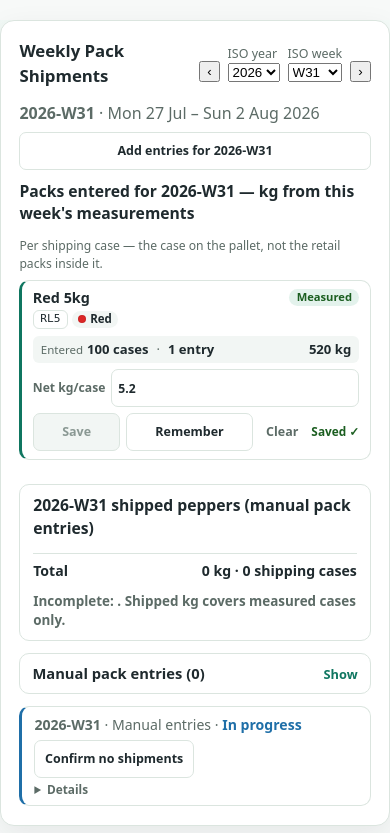
pack measurement save states › an edit shows “Unsaved changes”; Save is enabled only while the change is valid; typing the saved value back is “Saved ✓” again
Expected: the heading "Red 5kg" is shown, [33,288,90,307]
Replace the text in the number field named "Average net pepper kg per shipping case for Red 5kg" with "5.4": (235, 388) [111,369,359,407]
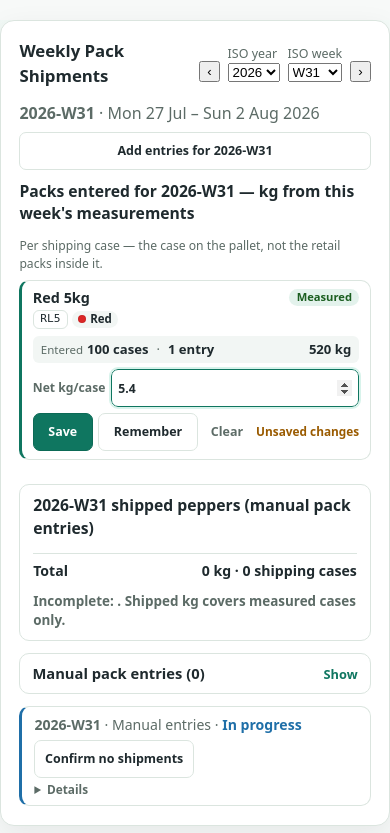
Expected: the message reads "Unsaved changes", [256,423,359,439]
Expected: the button "Save" is enabled, [33,413,93,451]
Replace the text in the number field named "Average net pepper kg per shipping case for Red 5kg" with "-1": (235, 388) [111,369,359,407]
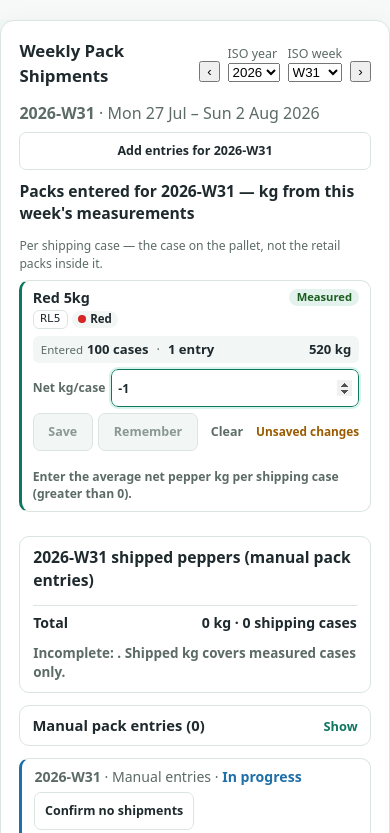
Expected: the message "Unsaved changes" is shown, [256,423,359,440]
Expected: the button "Save" is disabled, [33,413,93,451]
Expected: the message "Enter the average net pepper kg per shipping case (greater than 0)." is shown, [33,468,359,503]
Clear the number field named "Average net pepper kg per shipping case for Red 5kg": (235, 388) [111,369,359,407]
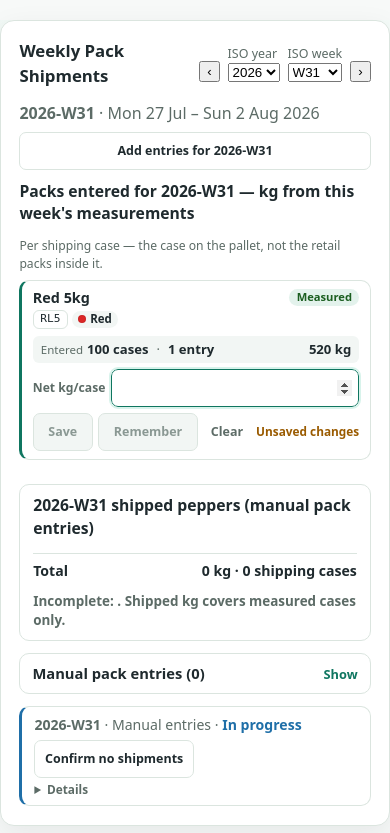
Expected: the button "Save" is disabled, [33,413,93,451]
In the number field named "Average net pepper kg per shipping case for Red 5kg": (235, 388) [111,369,359,407], type "5.20"
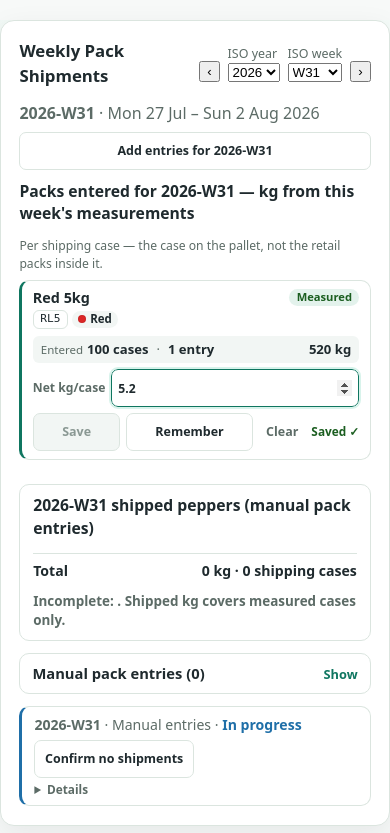
Expected: the button "Save" is disabled, [33,413,120,451]
Expected: the message reads "Saved ✓", [311,423,359,439]
